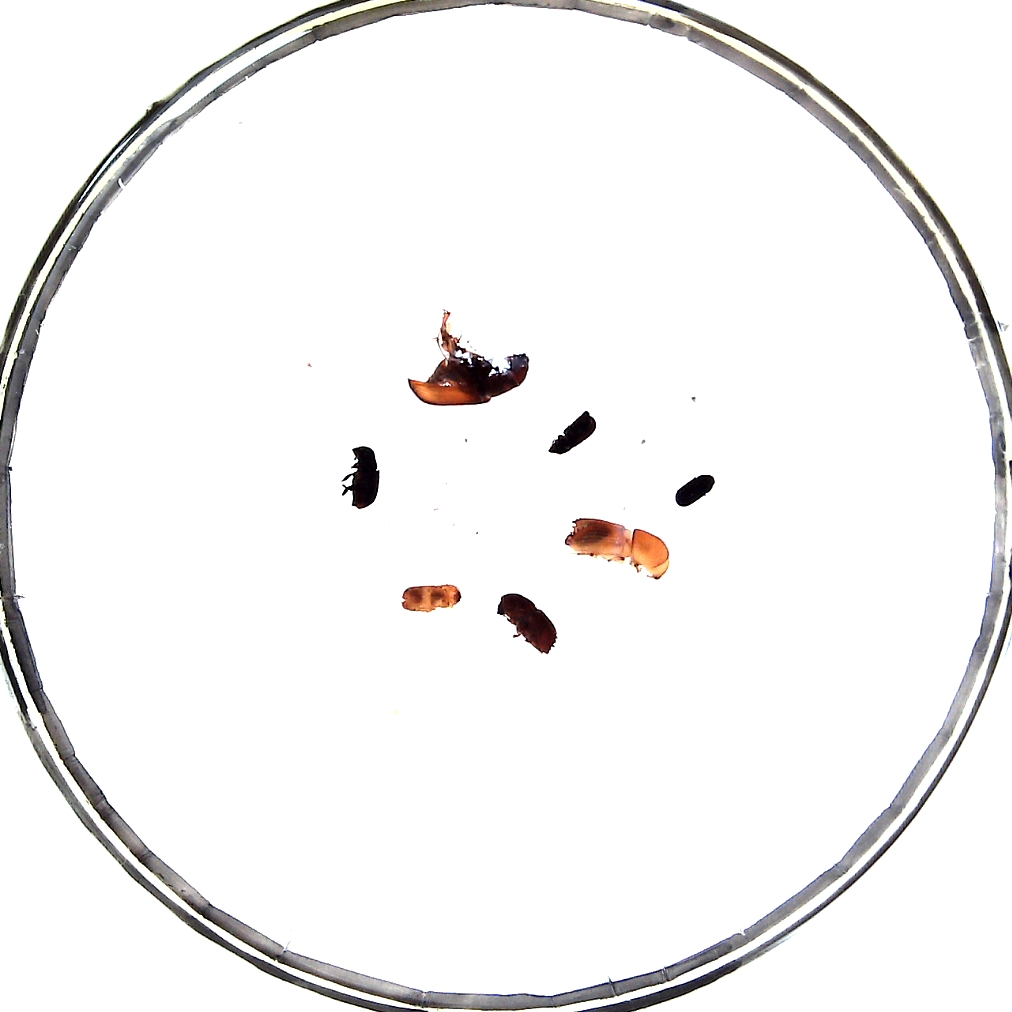Boerner: (561, 517, 671, 577)
Leconte: (408, 332, 529, 409)
Linnaeus: (493, 593, 556, 656)
acuminatus: (401, 584, 459, 617)
armandi: (344, 442, 381, 509)
coleoptera: (547, 411, 596, 459), (678, 471, 711, 503)
